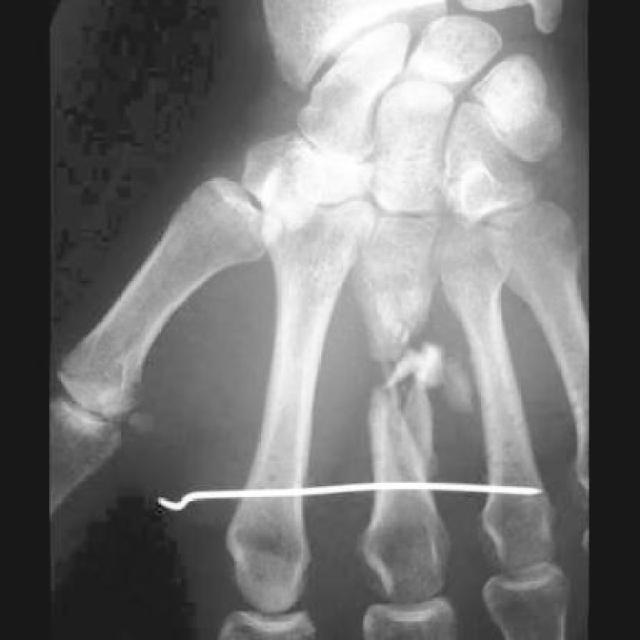Fracture: (374, 334, 450, 432)
